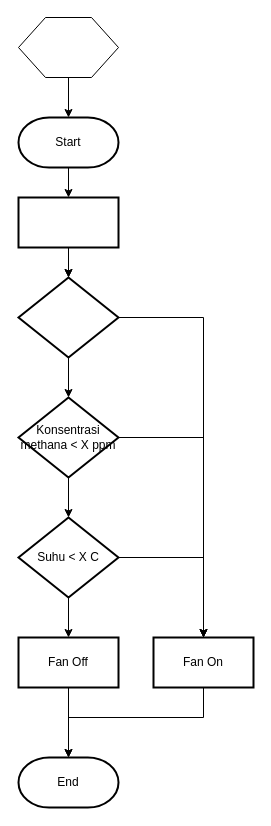
Some shapes in this 271 by 826 pixel diagram are drawn without their labels. The box of each missing label's shape, as (x1, y1, x2, y2) in pixels:
Deteksi Suhu dan kadar Gas: (17, 196, 119, 248)
Inisialisasi: (18, 16, 118, 78)
Konsentrasi ammonia < X ppm: (17, 276, 119, 358)
